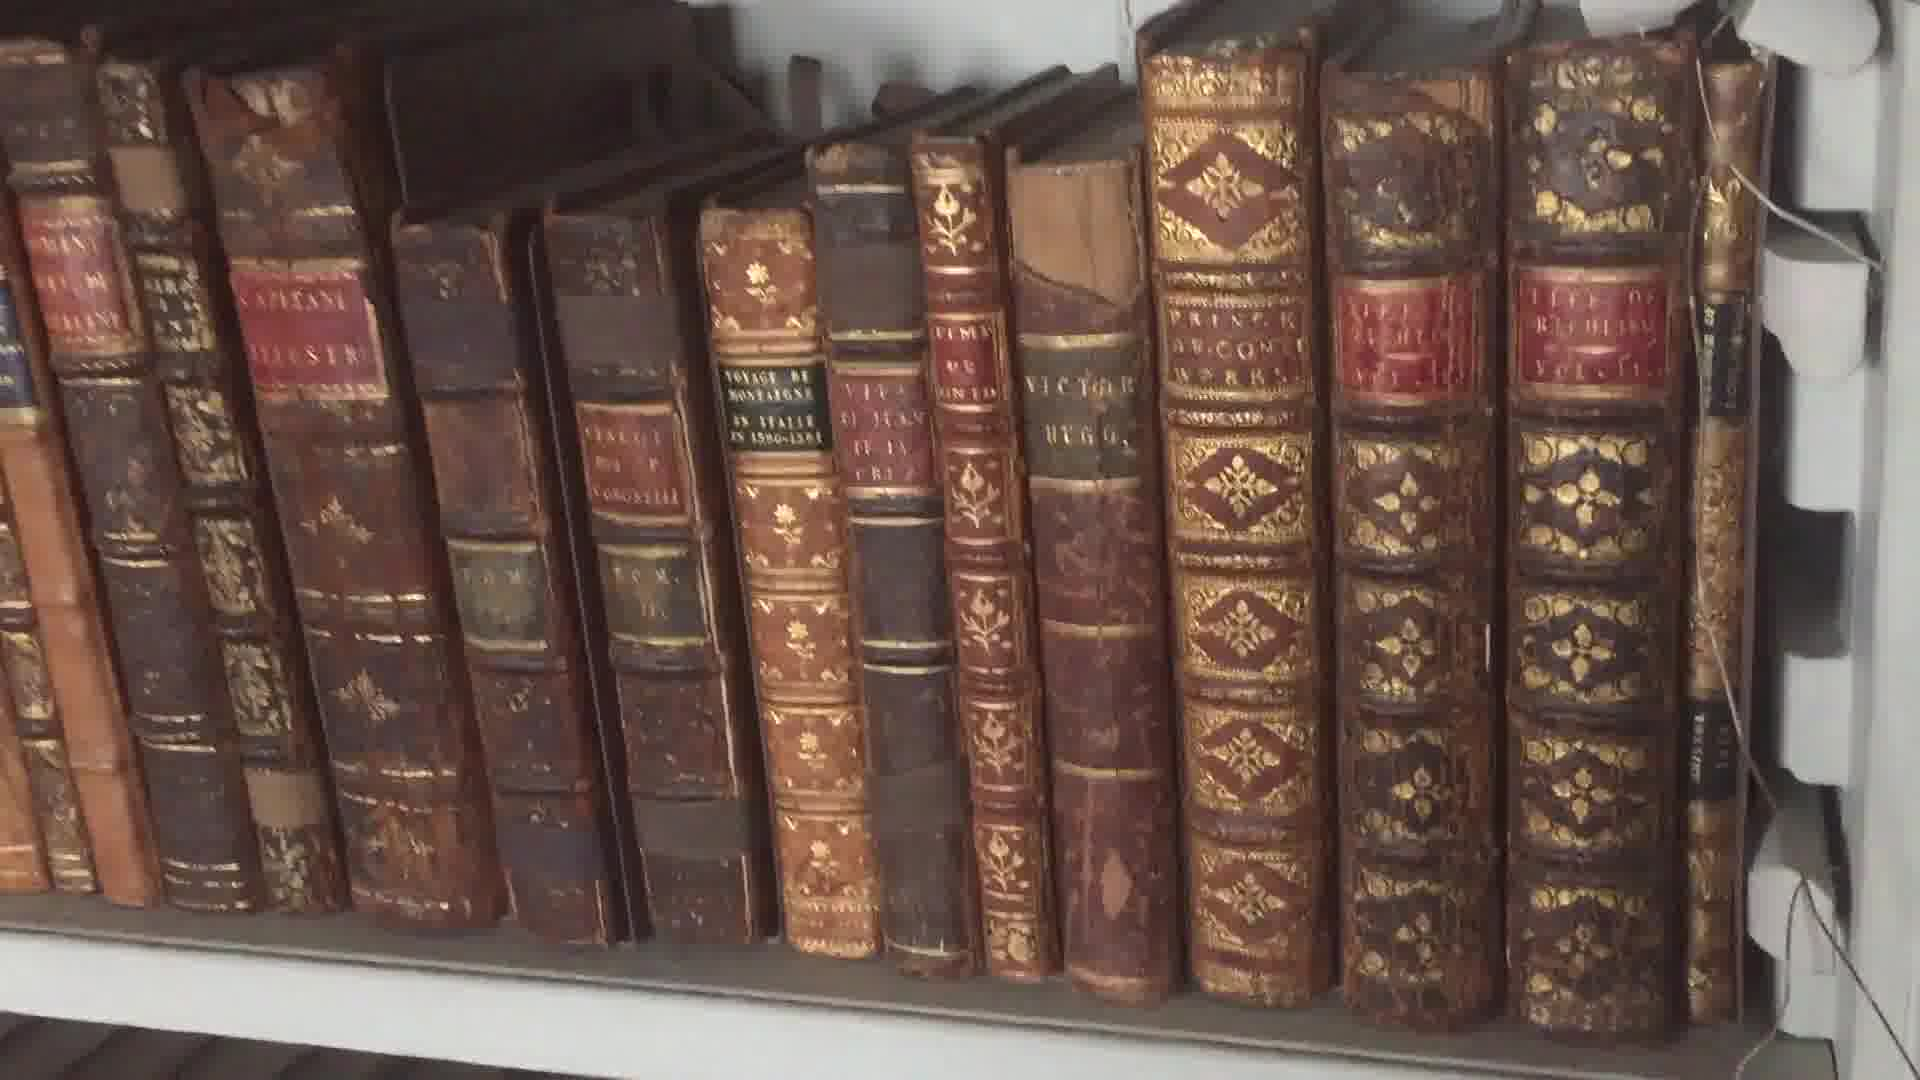Aa6-38: (190, 58, 492, 927)
Aa6-39_40: (365, 193, 770, 986)
Aa6-41: (698, 185, 891, 978)
Aa6-42: (802, 152, 1007, 1002)
Aa6-43: (891, 123, 1068, 990)
Aa6-44: (1009, 144, 1189, 1044)
Aa6-45: (1120, 46, 1338, 996)
Aa6-46-47: (1316, 69, 1675, 1046)
Aa6-48: (1683, 47, 1778, 1051)
